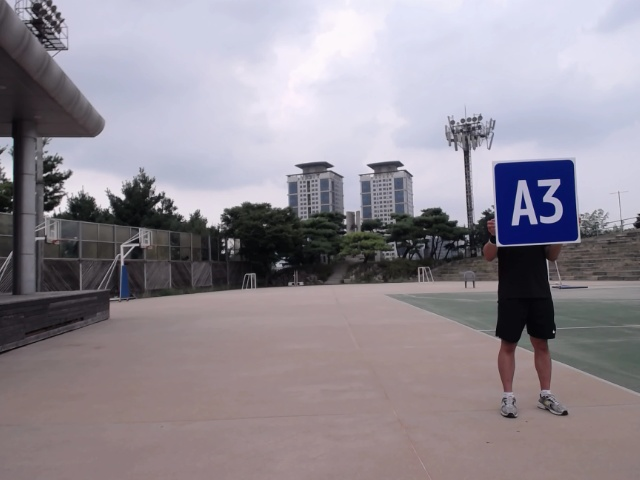delivery_a3: (492, 159, 580, 246)
